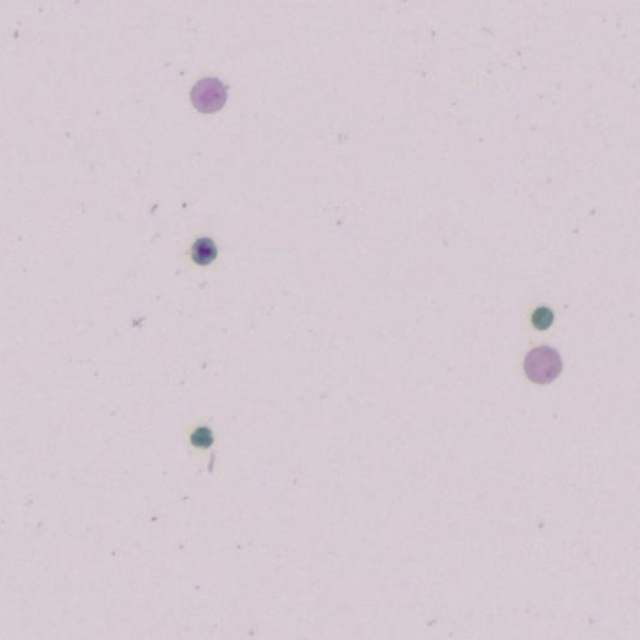intermediate: (523, 345, 561, 383), (190, 78, 226, 112), (191, 238, 216, 265)
non_viable: (530, 306, 553, 329), (190, 427, 212, 447)
